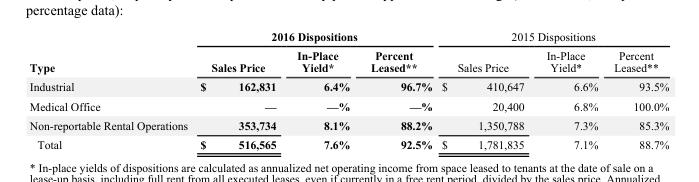table: (28, 29, 668, 150)
table column: (28, 29, 193, 150), (436, 29, 534, 150), (193, 29, 285, 150), (359, 29, 436, 150), (285, 29, 359, 150), (534, 29, 605, 150), (605, 29, 668, 150)
table column header: (28, 29, 668, 76)
table row: (28, 45, 668, 76), (28, 95, 668, 115), (28, 76, 668, 95), (28, 115, 668, 134), (28, 29, 668, 45), (28, 134, 668, 150)
table spanning cell: (28, 29, 193, 76), (193, 29, 436, 45), (436, 29, 668, 45)
